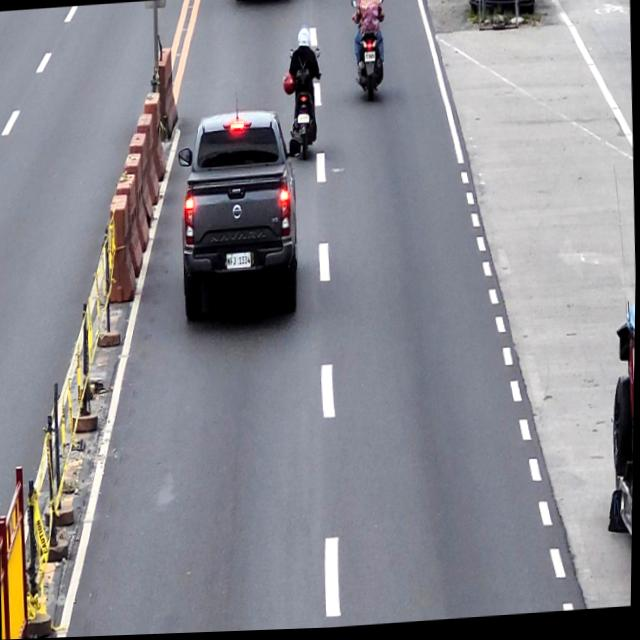Car: (178, 109, 301, 317)
License-Plate: (225, 251, 253, 273), (363, 52, 377, 67)
Motorcycle: (285, 30, 319, 162), (348, 0, 391, 102)
